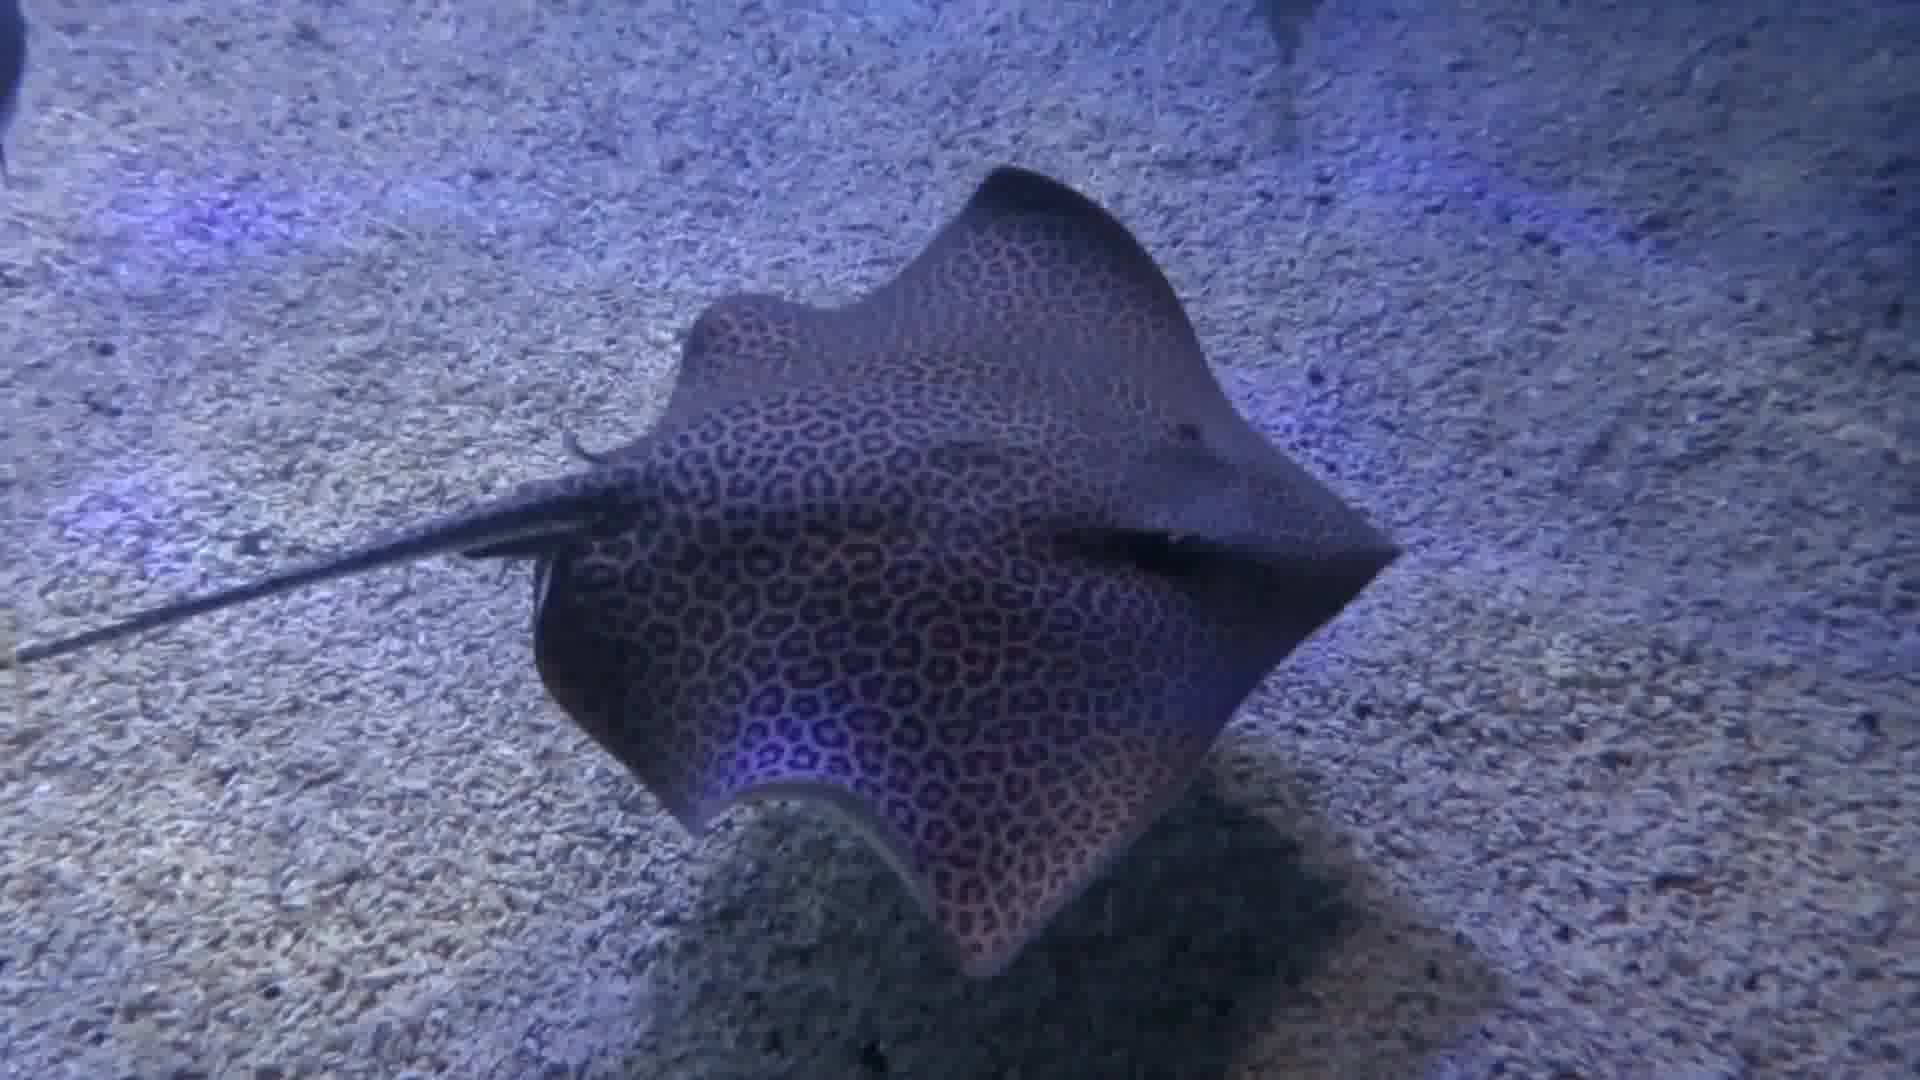Himantura uarnak: (385, 94, 1410, 1018)
